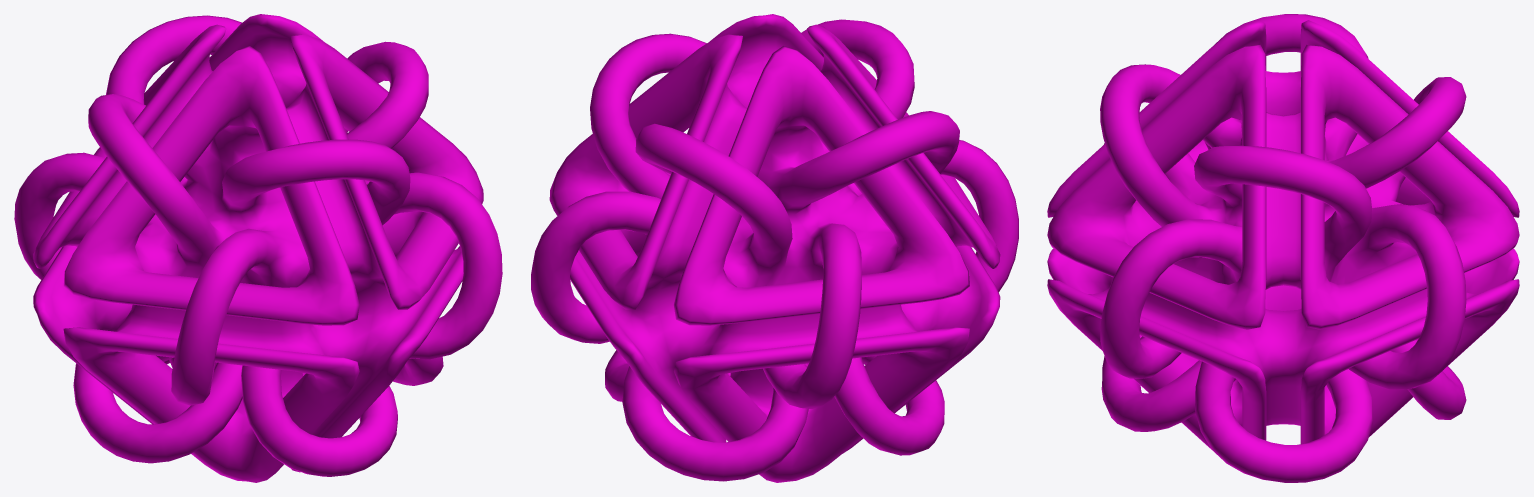
Rendered from dode3.fbx.
3 views of the same model, side by side, from view 1: azimuth 30°, elevation 25°; view 2: azimuth 150°, elevation 25°; view 3: azimuth 270°, elevation 25° (orthographic).
Parts seen in each view (by area): view 1: model_with_subsurface_scattering_2:object_1; view 2: model_with_subsurface_scattering_2:object_1; view 3: model_with_subsurface_scattering_2:object_1.
Part boxes in pixels (x1,y1,x2,y2): model_with_subsurface_scattering_2:object_1: (14, 14, 502, 482); model_with_subsurface_scattering_2:object_1: (531, 14, 1018, 482); model_with_subsurface_scattering_2:object_1: (1047, 14, 1519, 482).
Size of the model in its own units: 5.72 by 5.72 by 5.72.
